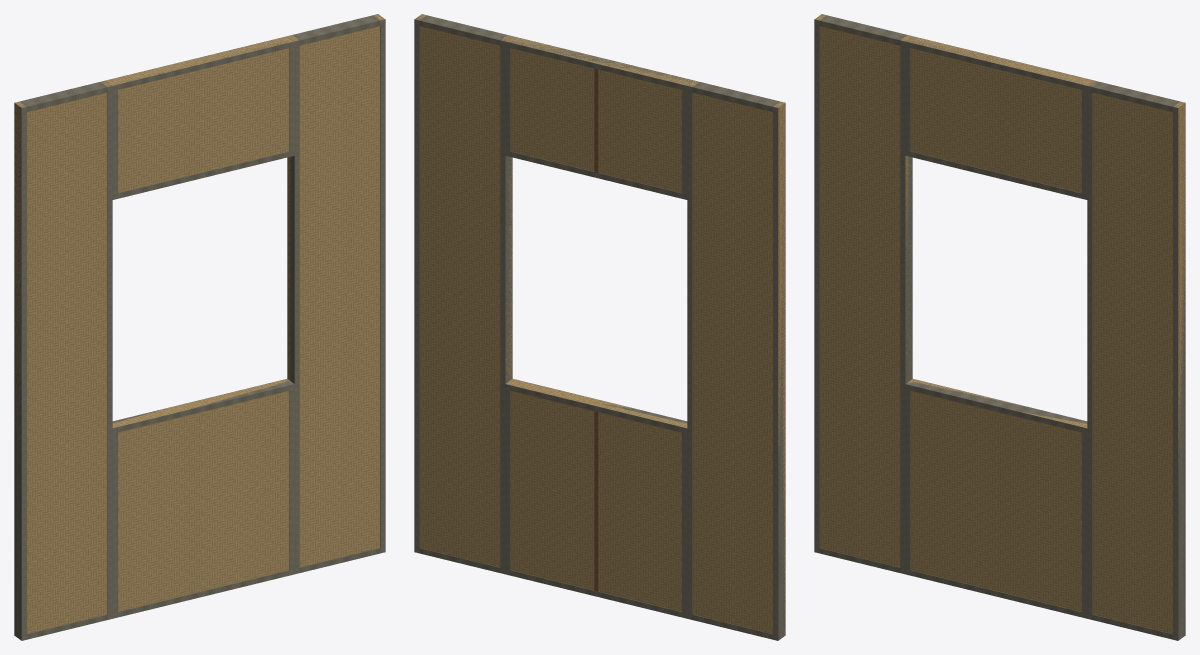
Rendered from MRP_WallWindow_Bamboo_2m.fbx.
The picture shows the model from 3 angles, left to right: view 1: azimuth 30°, elevation 25°; view 2: azimuth 150°, elevation 25°; view 3: azimuth 330°, elevation 25°; orthographic projection.
Visible parts, largest first — view 1: Body; view 2: Body; view 3: Body.
Part boxes in pixels (left/top/right/bottom): Body: left=14, top=14, right=385, bottom=640; Body: left=414, top=14, right=785, bottom=640; Body: left=814, top=14, right=1185, bottom=640.
Size of the model in its own units: 2 by 2.8 by 0.07.
